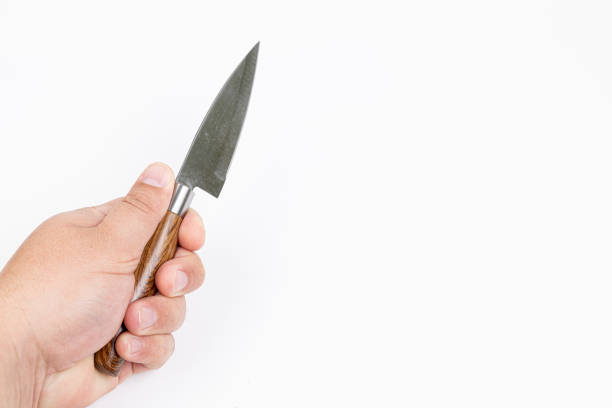knife: (92, 39, 262, 379)
